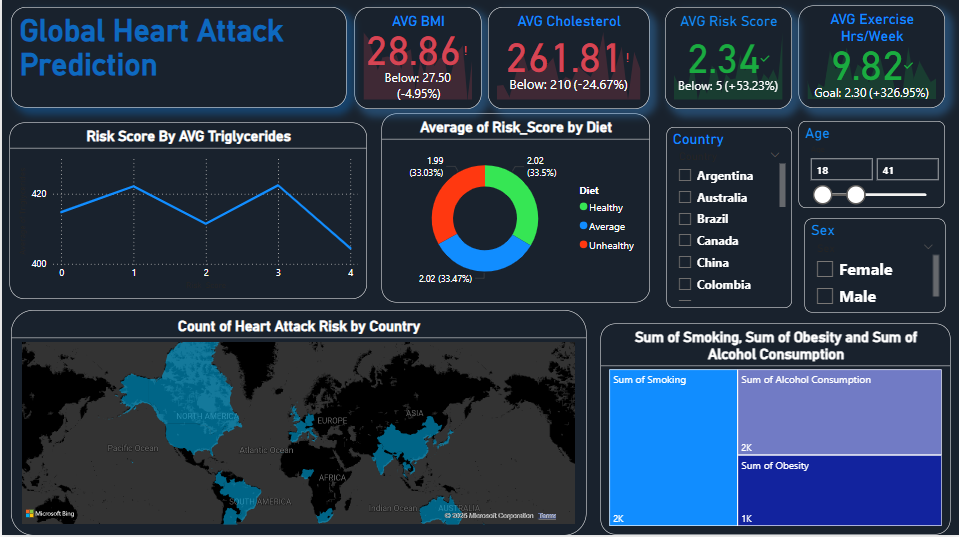

The dashboard page shown, as its layout file describes it:
{"tool":"powerbi","page":{"name":"Page 1","canvas":[1280,720],"ordinal":0},"visuals":[{"type":"filledMap","fields":{"Category":["Heart_Attack_Prediction_Dataset.Country"]},"box":[11.3,419.5,767.2,300.5],"z":0},{"type":"lineChart","title":"Risk Score By AVG Triglycerides","fields":{"Category":["Heart_Attack_Prediction_Dataset.Risk_Score"],"Y":["Avg(Heart_Attack_Prediction_Dataset.Triglycerides)"]},"box":[10.6,169.4,476.6,235.1],"z":1000},{"type":"treemap","fields":{"Values":["Sum(Heart_Attack_Prediction_Dataset.Smoking)","Sum(Heart_Attack_Prediction_Dataset.Obesity)","Sum(Heart_Attack_Prediction_Dataset.Alcohol Consumption)"]},"box":[797.5,438.4,466.8,281.6],"z":2000},{"type":"donutChart","fields":{"Category":["Heart_Attack_Prediction_Dataset.Diet"],"Y":["Avg(Heart_Attack_Prediction_Dataset.Risk_Score)"]},"box":[506.2,158.9,358,252],"z":3000},{"type":"kpi","title":"AVG BMI","fields":{"Indicator":["Avg(Heart_Attack_Prediction_Dataset.BMI)"],"Goal":["Heart_Attack_Prediction_Dataset.Average BMI"],"TrendLine":["Heart_Attack_Prediction_Dataset.Age"]},"box":[470.7,16.6,169,135.9],"z":4000},{"type":"kpi","title":"AVG Cholesterol","fields":{"TrendLine":["Heart_Attack_Prediction_Dataset.Age"],"Indicator":["Avg(Heart_Attack_Prediction_Dataset.Cholesterol)"],"Goal":["Heart_Attack_Prediction_Dataset.AVG Cholesterol"]},"box":[648,16.6,215.5,135.9],"z":5000},{"type":"kpi","title":"AVG Exercise Hrs/Week","fields":{"TrendLine":["Heart_Attack_Prediction_Dataset.Age"],"Indicator":["Avg(Heart_Attack_Prediction_Dataset.Exercise Hours Per Week)"],"Goal":["Heart_Attack_Prediction_Dataset.AVG Exercise HRS per month"]},"box":[1062.5,14.3,195.6,136.8],"z":6000},{"type":"slicer","title":"Country","fields":{"Values":["Heart_Attack_Prediction_Dataset.Country"]},"box":[885.3,175.8,167.3,241.5],"z":7000},{"type":"slicer","title":"Age","fields":{"Values":["Heart_Attack_Prediction_Dataset.Age"]},"box":[1062.5,168.6,195.6,116.1],"z":8000},{"type":"slicer","title":"Sex","fields":{"Values":["Heart_Attack_Prediction_Dataset.Sex"]},"box":[1070.5,297.4,187.7,125.7],"z":9000},{"type":"textbox","title":"Global Heart Attack Prediction","box":[11.6,16.6,447.5,134.2],"z":10000},{"type":"kpi","title":"AVG Risk Score","fields":{"Goal":["Heart_Attack_Prediction_Dataset.Heart Attack Risk Score"],"TrendLine":["Heart_Attack_Prediction_Dataset.Age"],"Indicator":["Avg(Heart_Attack_Prediction_Dataset.Risk_Score)"]},"box":[883.4,16.6,169,135.9],"z":11000}]}

Visuals, with their boxes in screenshot pixels (x1, y1, x2, y2), scaled from the page's 1280x720 canvas onto the 959x537 screenshot:
filledMap - Heart_Attack_Prediction_Dataset.Country: box(8, 313, 583, 536)
"Risk Score By AVG Triglycerides" lineChart: box(8, 126, 365, 302)
treemap - Sum(Heart_Attack_Prediction_Dataset.Smoking) x Sum(Heart_Attack_Prediction_Dataset.Obesity): box(598, 327, 947, 536)
donutChart - Heart_Attack_Prediction_Dataset.Diet x Avg(Heart_Attack_Prediction_Dataset.Risk_Score): box(379, 119, 647, 306)
"AVG BMI" kpi: box(353, 12, 479, 114)
"AVG Cholesterol" kpi: box(485, 12, 647, 114)
"AVG Exercise Hrs/Week" kpi: box(796, 11, 943, 113)
"Country" slicer: box(663, 131, 789, 311)
"Age" slicer: box(796, 126, 943, 212)
"Sex" slicer: box(802, 222, 943, 316)
"Global Heart Attack Prediction" textbox: box(9, 12, 344, 112)
"AVG Risk Score" kpi: box(662, 12, 788, 114)
